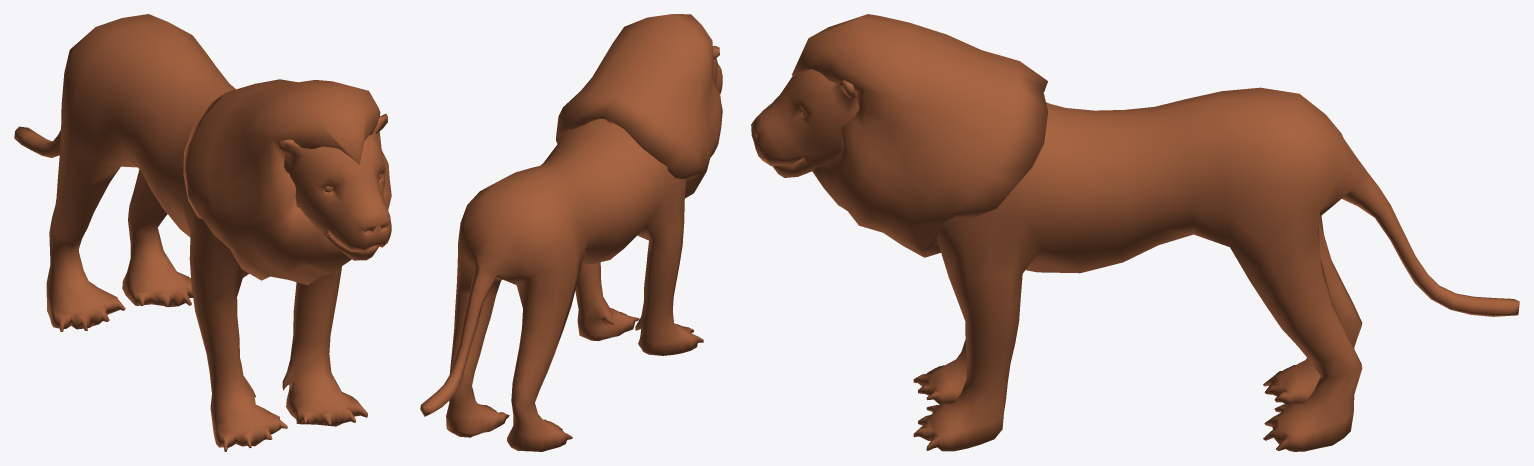
File: Lion.fbx
3 renders of one model, left to right at view 1: azimuth 30°, elevation 25°; view 2: azimuth 150°, elevation 25°; view 3: azimuth 270°, elevation 25°, orthographic. The views are drawn at different scales.
Visible parts, largest first — view 1: Lion; view 2: Lion; view 3: Lion.
Boxes of the visible parts, bbox=[...] form: Lion: bbox=[14, 14, 391, 451]; Lion: bbox=[420, 14, 722, 451]; Lion: bbox=[751, 14, 1519, 451].
Size of the model in its own units: 75.56 by 155 by 270.
